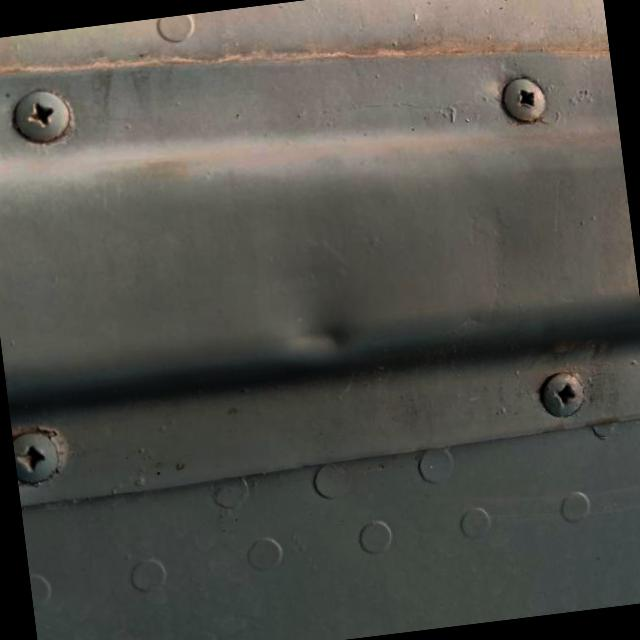dent: (277, 294, 372, 384)
